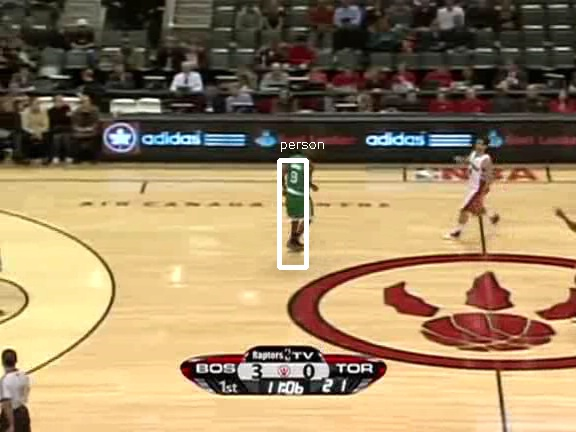person: (282, 149, 316, 230), (281, 149, 315, 230), (283, 149, 317, 230), (282, 148, 316, 229), (282, 150, 316, 231)
target_negative: (288, 21, 466, 344), (103, 192, 347, 266), (470, 143, 529, 302), (55, 194, 335, 214), (494, 156, 515, 171), (363, 272, 377, 286)
